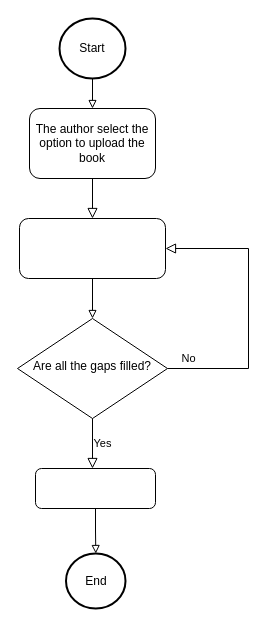
The diagram is 276 pixels wide and 626 high, and some of its shapes have lost their labels. Each missing label, with the centre of its shape:
The author fill all the information about the book: the point at 92,248
The book is upload: the point at 95,488
